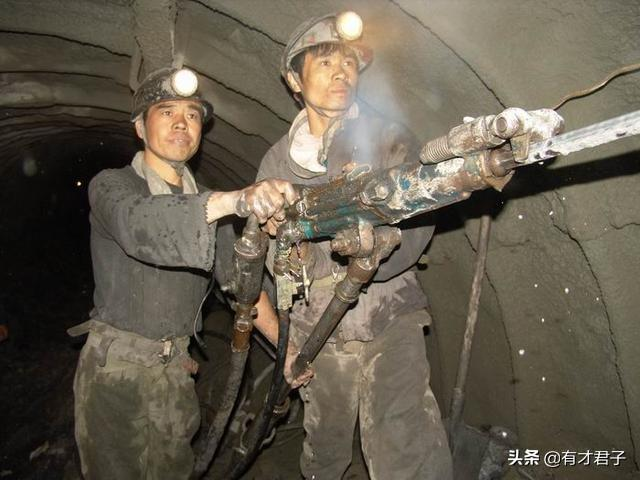helmet: (123, 67, 221, 164)
